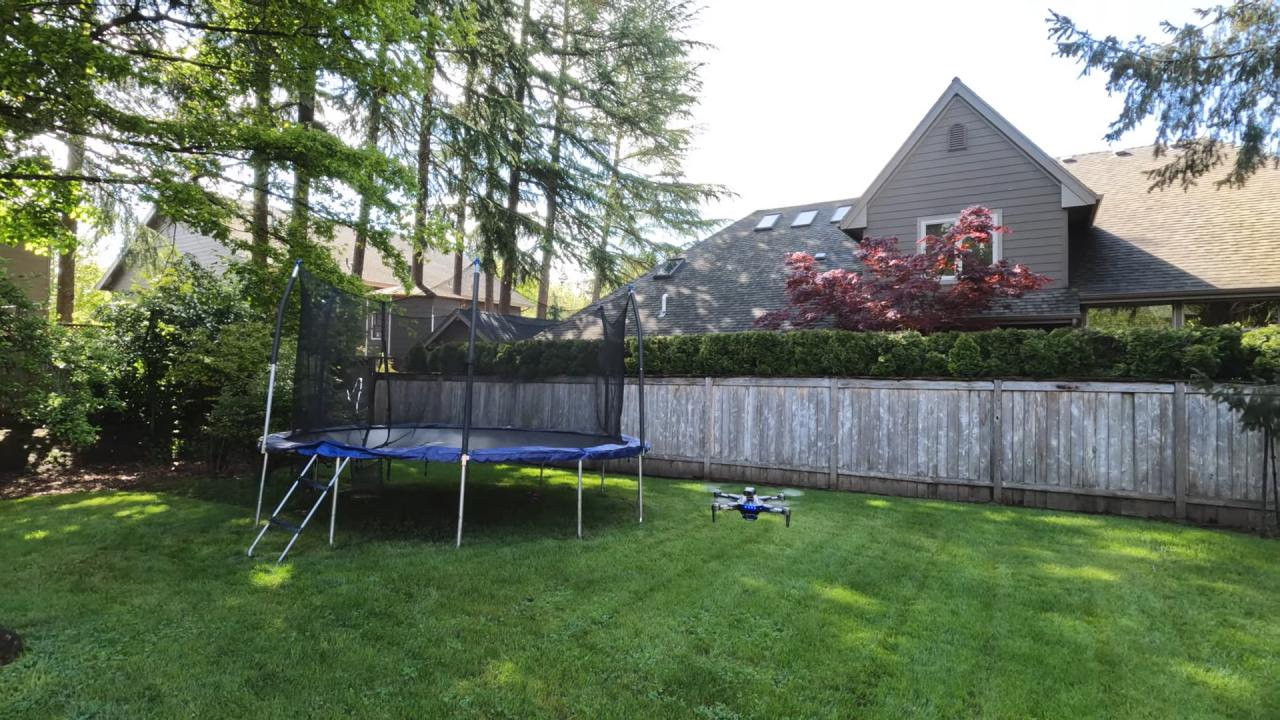Drone: (699, 475, 803, 537)
